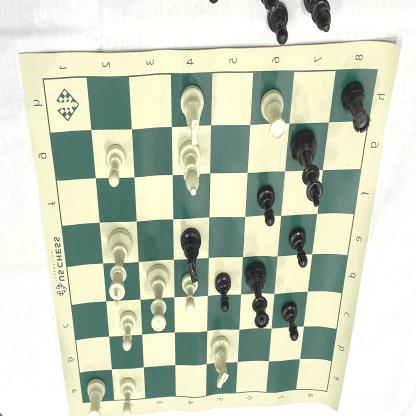black-king: (290, 127, 326, 208)
black-knight: (177, 227, 204, 283)
black-pawn: (286, 224, 309, 271), (280, 297, 300, 343), (256, 184, 276, 229), (214, 272, 232, 314)
black-queen: (244, 258, 271, 331)
black-rook: (340, 79, 372, 136)
white-bishop: (178, 139, 201, 198)
white-king: (106, 225, 134, 310)
white-knight: (178, 83, 206, 146), (209, 334, 232, 391)
white-pawn: (102, 143, 128, 189), (118, 309, 138, 353), (180, 272, 200, 314), (117, 376, 138, 416)
white-queen: (147, 262, 171, 335)
white-rook: (259, 87, 286, 145), (87, 375, 106, 416)
